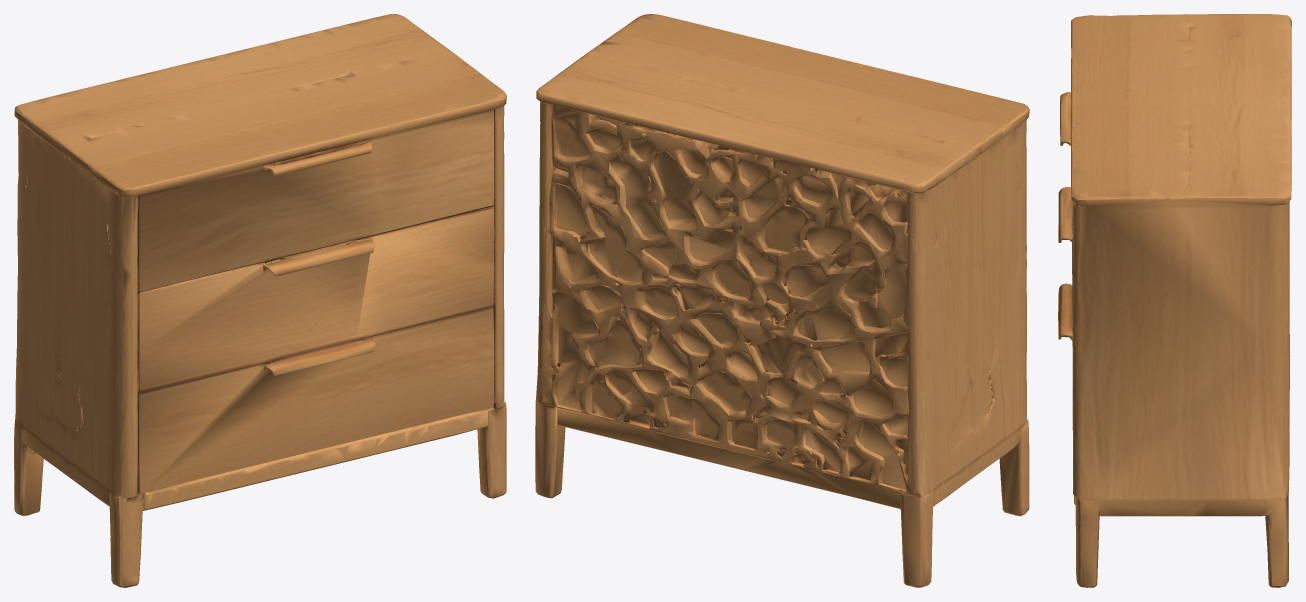
File: dresser.glb
The picture shows the model from 3 angles, left to right: view 1: azimuth 30°, elevation 25°; view 2: azimuth 150°, elevation 25°; view 3: azimuth 270°, elevation 25°; orthographic projection. The views are drawn at different scales.
Visible parts, largest first — view 1: world; view 2: world; view 3: world.
Boxes of the visible parts, <box> form: world: <box>14,14,506,587</box>; world: <box>535,14,1029,587</box>; world: <box>1058,14,1291,587</box>.
Size of the model in its own units: 0.8999 by 0.8938 by 0.4815.
1 material, 1 textured.
